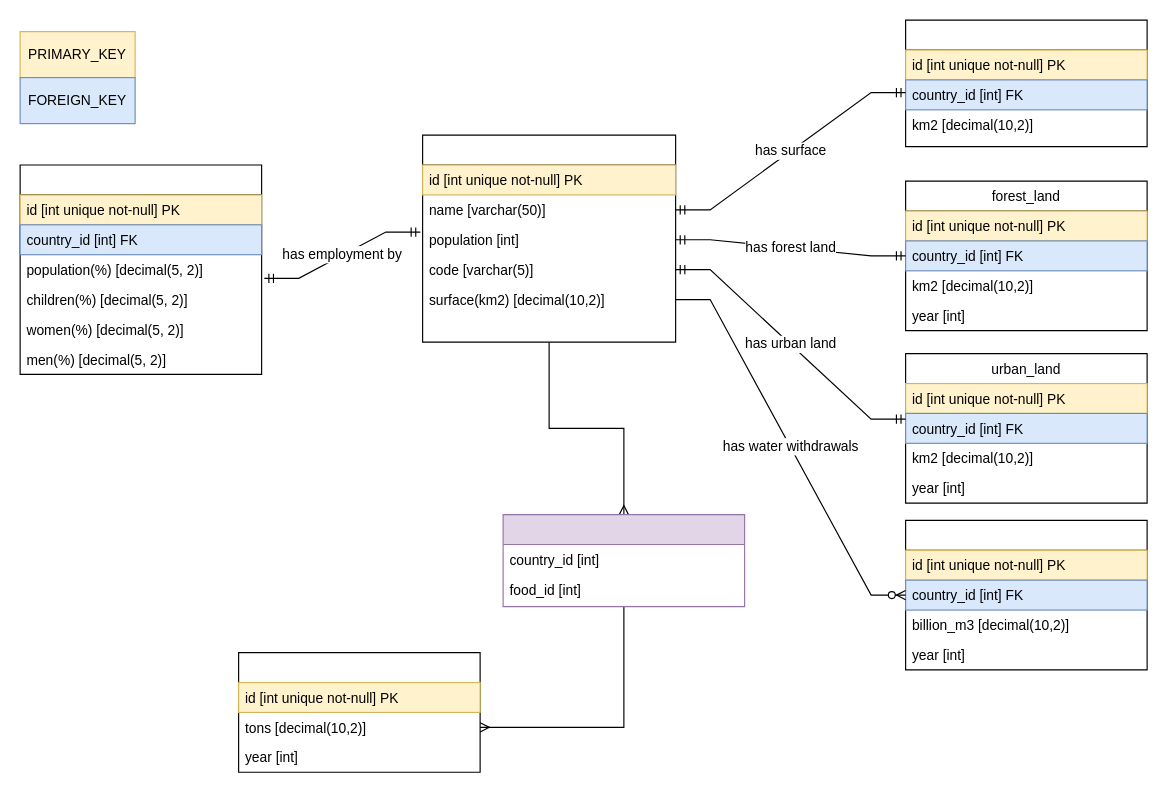
Image size: 1167x796. Some labels were removed from this diagram. The shapes that lost their labels are listed below. From the top down, each one's box as (x1, y1, x2, y2) in pixels, then its label:
(904, 19, 1147, 147): agricultural_land
(421, 134, 676, 342): country
(19, 164, 262, 374): employment
(502, 513, 745, 607): country_food
(904, 519, 1147, 670): water_withdrawals
(237, 651, 480, 772): food
